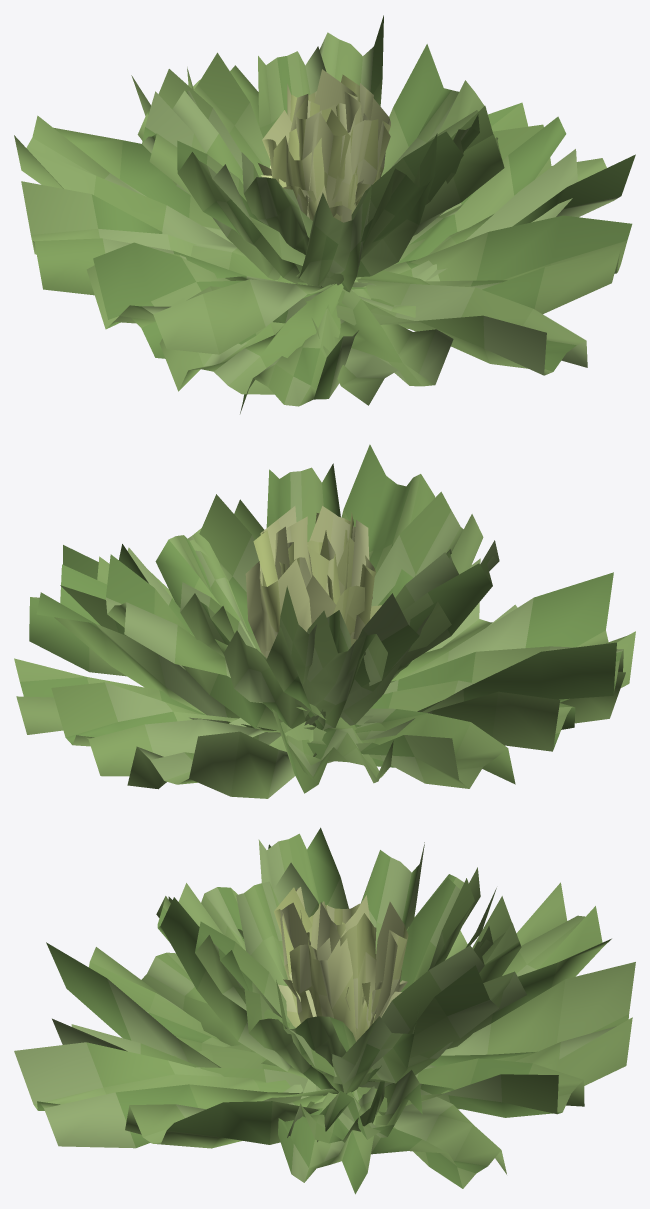
File: salade_frisee_pomme.glb
3 views of the same model, one above another, from view 1: azimuth 30°, elevation 25°; view 2: azimuth 150°, elevation 25°; view 3: azimuth 270°, elevation 25° (orthographic). The views are drawn at different scales.
Visible parts, largest first — view 1: Salade_Feuilles_ext, Salade_Feuilles_int; view 2: Salade_Feuilles_ext, Salade_Feuilles_int; view 3: Salade_Feuilles_ext, Salade_Feuilles_int.
Boxes of the visible parts, left/top/right/bottom form: Salade_Feuilles_ext: left=14, top=15, right=635, bottom=413; Salade_Feuilles_int: left=258, top=69, right=390, bottom=222; Salade_Feuilles_ext: left=14, top=444, right=635, bottom=798; Salade_Feuilles_int: left=245, top=506, right=381, bottom=657; Salade_Feuilles_ext: left=14, top=827, right=635, bottom=1194; Salade_Feuilles_int: left=274, top=887, right=408, bottom=1041.
Size of the model in its own units: 0.5363 by 0.2252 by 0.5454.
